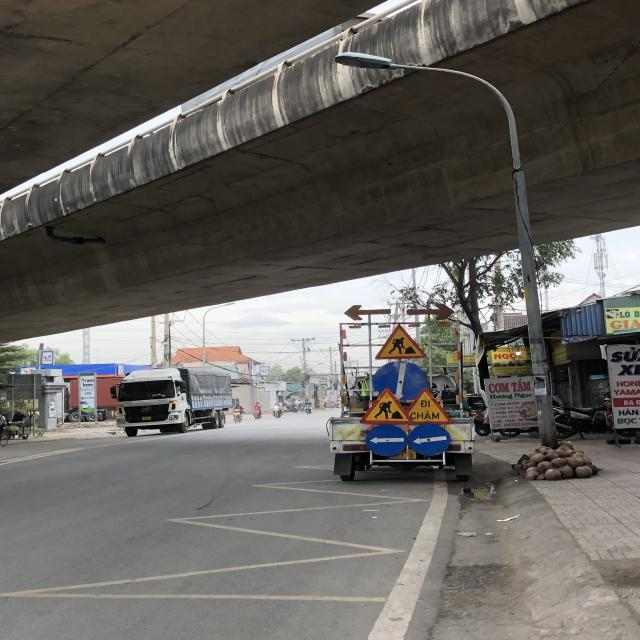Bien bao cong truong: (358, 386, 416, 426), (372, 323, 428, 360)
